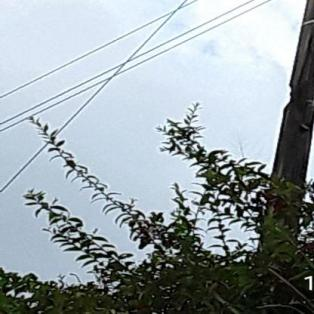Poste: (243, 0, 314, 301)
